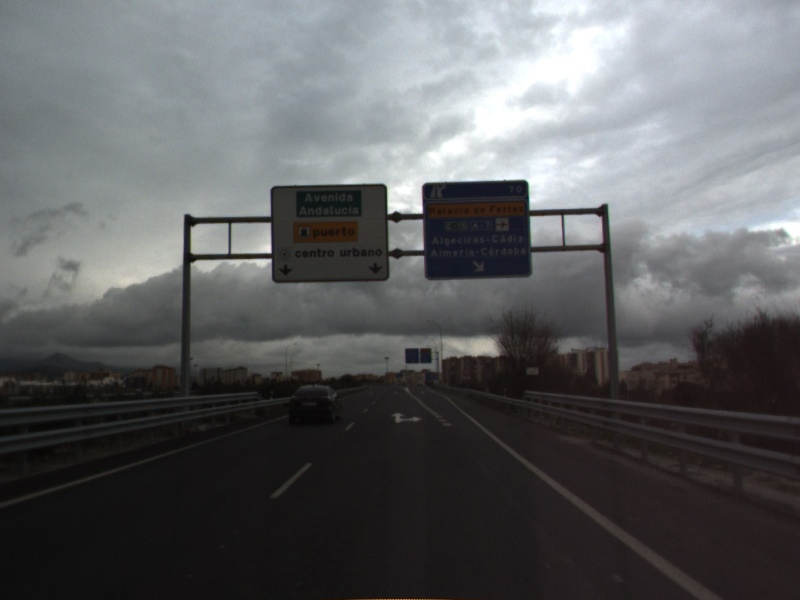STRAIGHT_RIGHT: (388, 410, 425, 425)
